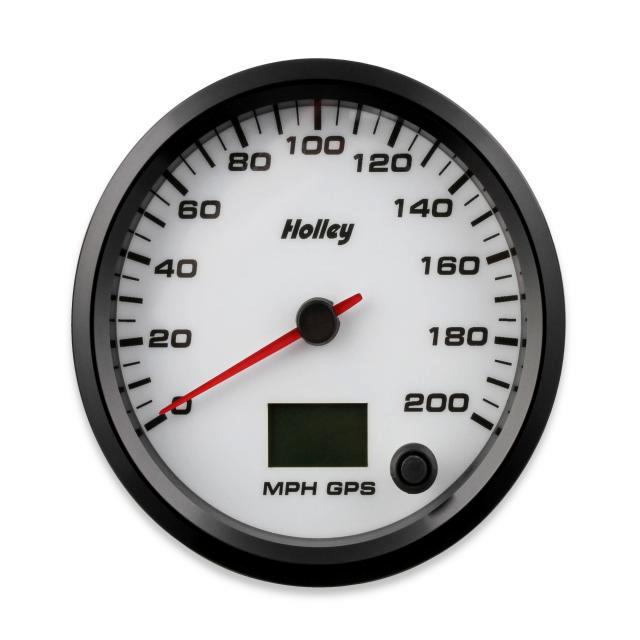Needle_Tip: (157, 358, 259, 419)
Needle_base: (282, 265, 370, 376)
max_value: (390, 381, 489, 430)
min_value: (155, 377, 211, 435)
